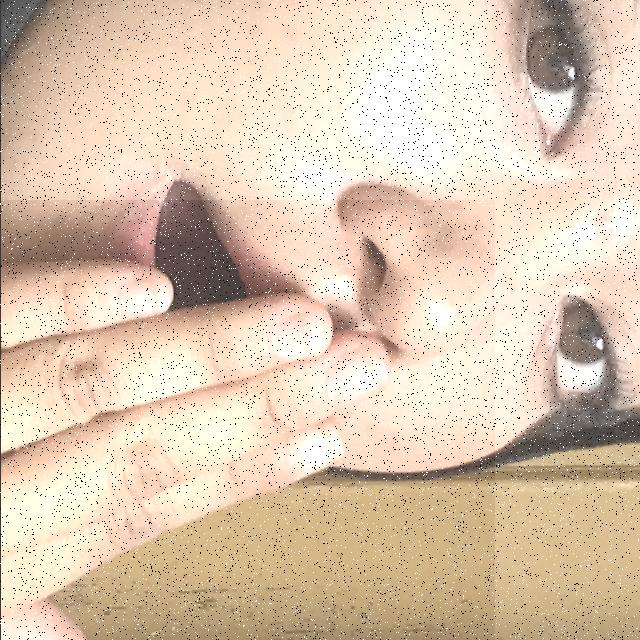ngantuk: (0, 200, 494, 640)
